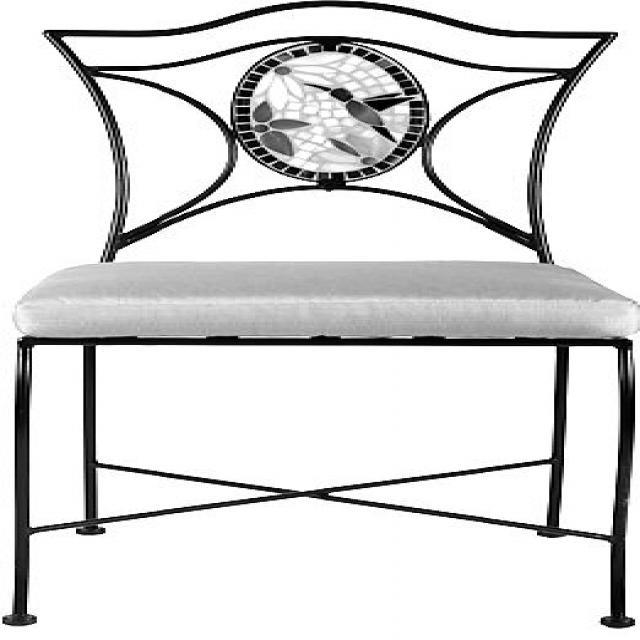chair: (5, 0, 638, 629)
